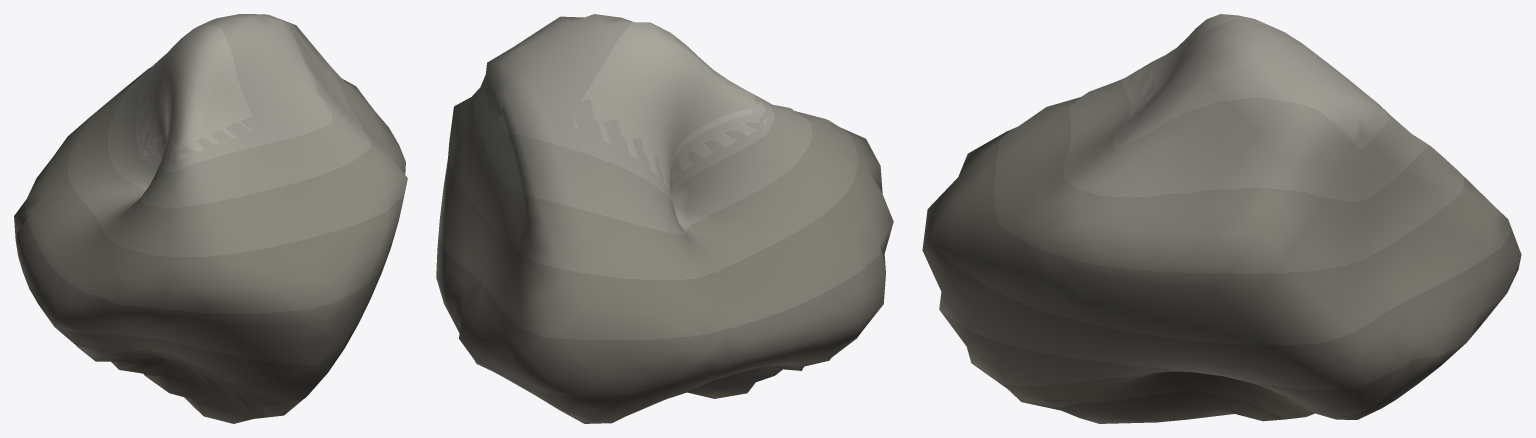
The model's file is DL_Obj_Level5_MineRock4.fbx.
3 views of the same model, side by side, from view 1: azimuth 30°, elevation 25°; view 2: azimuth 150°, elevation 25°; view 3: azimuth 270°, elevation 25° (orthographic). The views are drawn at different scales.
Visible parts, largest first — view 1: Level5_MineRock04; view 2: Level5_MineRock04; view 3: Level5_MineRock04.
Boxes of the visible parts, x1,y1,x2,y2 form: Level5_MineRock04: (14, 14, 407, 423); Level5_MineRock04: (436, 14, 893, 423); Level5_MineRock04: (922, 14, 1521, 423).
Size of the model in its own units: 171 by 163 by 205.
